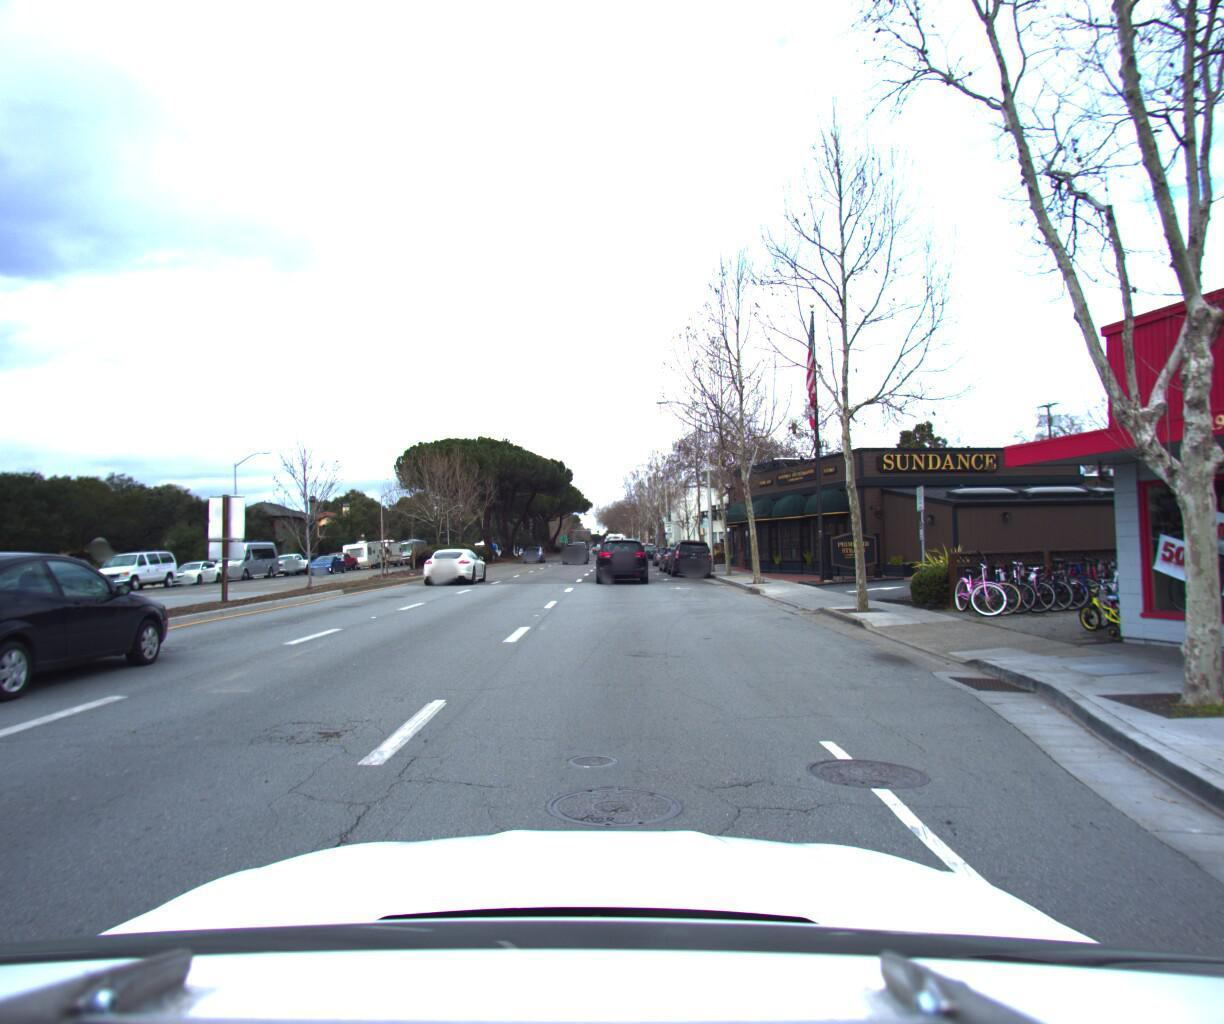bicycle: (976, 544, 1043, 608), (1068, 575, 1142, 633), (960, 546, 1024, 610), (1064, 547, 1135, 601), (1052, 548, 1121, 602), (1037, 549, 1106, 603), (1021, 550, 1090, 604), (1008, 551, 1074, 606), (995, 552, 1060, 607)
car: (0, 539, 188, 716), (88, 543, 185, 586), (208, 531, 286, 576), (592, 528, 649, 580), (421, 540, 490, 581), (667, 530, 716, 573), (161, 550, 228, 581), (267, 544, 317, 569), (659, 537, 699, 566), (303, 545, 346, 567), (0, 547, 12, 613), (561, 530, 588, 553), (521, 534, 544, 553)
other_vehicle: (343, 530, 393, 561)
